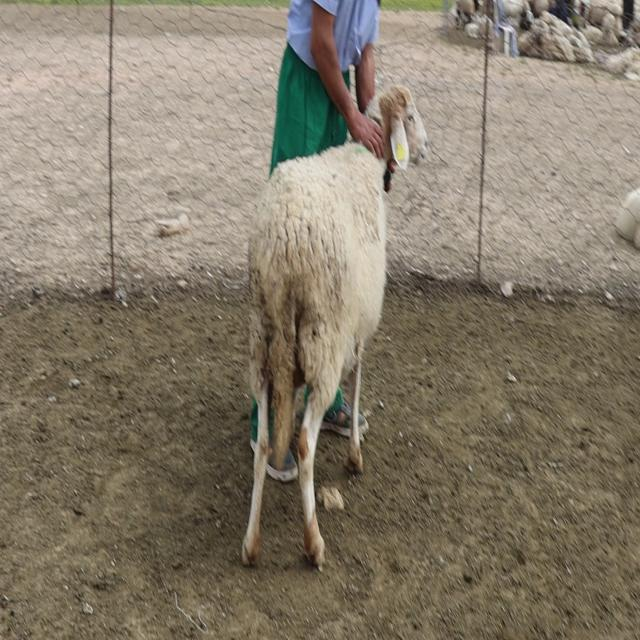Score_5: (242, 85, 427, 567)
